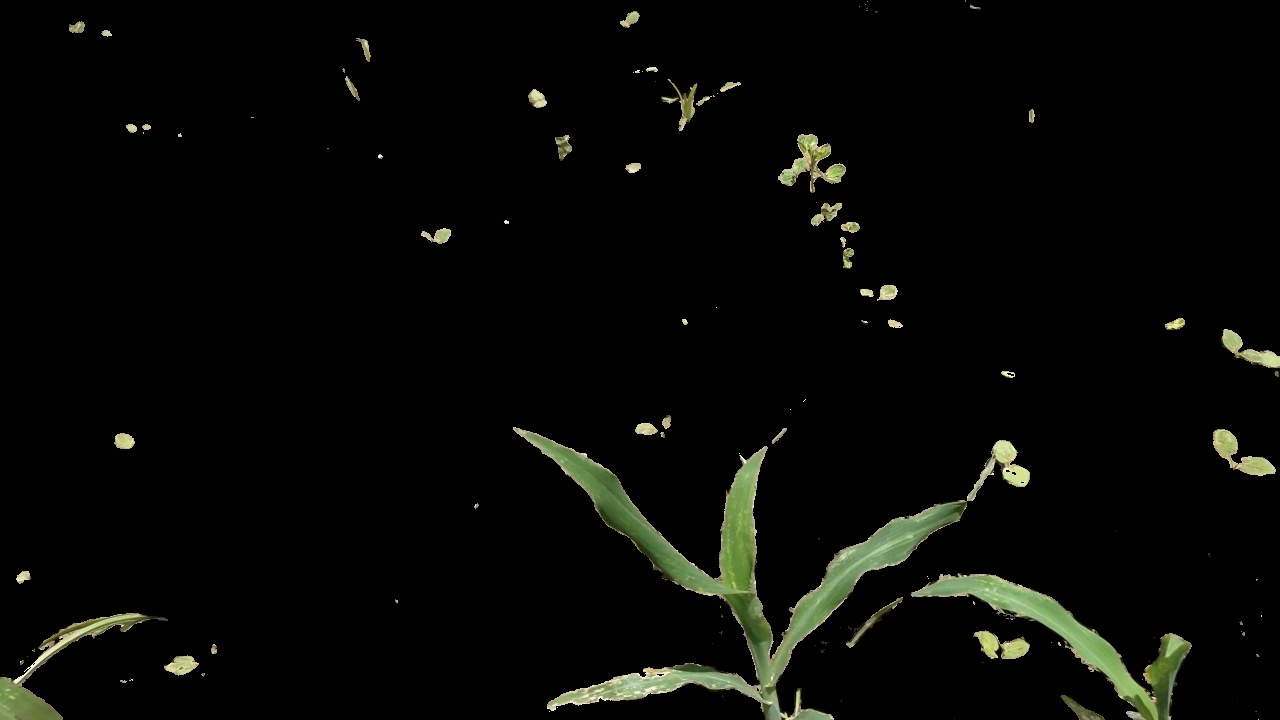crop: (526, 428, 916, 720), (864, 575, 1226, 720)
weed: (632, 67, 745, 142), (1203, 412, 1276, 482), (773, 129, 845, 192), (959, 622, 1033, 674), (983, 429, 1038, 495), (1212, 319, 1280, 368), (405, 221, 469, 257), (858, 275, 912, 302), (801, 199, 847, 224), (528, 89, 561, 117)
